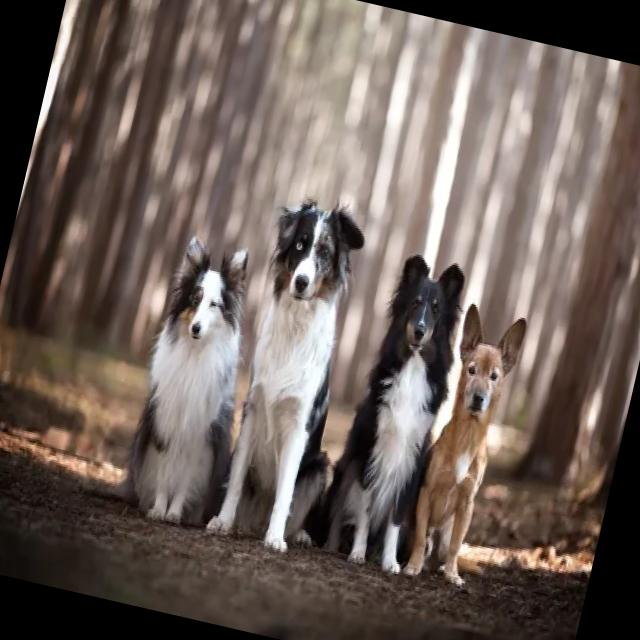Dog: (105, 169, 547, 600)
